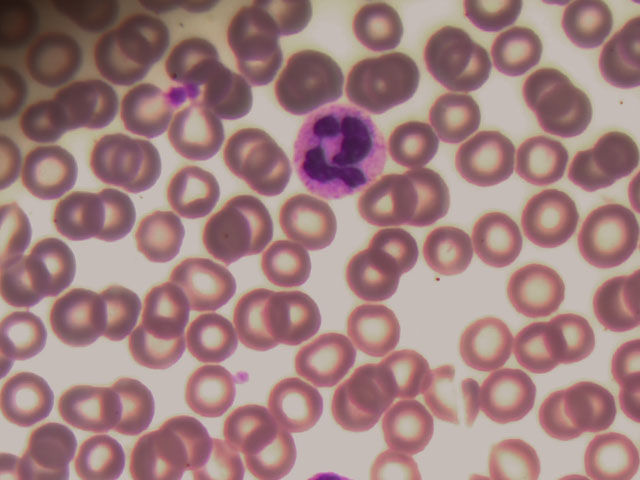Platelets: (168, 80, 198, 106), (230, 366, 255, 385)
RBC: (491, 22, 544, 77), (520, 64, 573, 119), (544, 89, 597, 144), (516, 130, 569, 185), (459, 131, 512, 186), (430, 91, 483, 146), (388, 113, 441, 168), (399, 168, 452, 223), (357, 171, 410, 226), (370, 219, 423, 274), (344, 252, 397, 307), (417, 225, 470, 280), (470, 214, 523, 269), (522, 192, 575, 247), (580, 209, 633, 264), (578, 136, 631, 191), (428, 30, 481, 85), (353, 1, 406, 56), (370, 53, 423, 108), (339, 51, 392, 106), (288, 50, 341, 105), (233, 39, 286, 94), (229, 9, 282, 64), (205, 62, 258, 117), (171, 30, 224, 85), (124, 6, 177, 61), (99, 30, 152, 85), (27, 29, 80, 84), (67, 69, 120, 124), (12, 93, 65, 148), (26, 144, 79, 199), (48, 187, 101, 242), (89, 190, 142, 245), (133, 210, 186, 265), (166, 167, 219, 222), (112, 143, 165, 198), (86, 124, 139, 179), (169, 108, 222, 163), (120, 86, 173, 141), (217, 126, 270, 181), (250, 155, 303, 210), (286, 211, 339, 266), (231, 196, 284, 251), (206, 211, 259, 266), (180, 257, 233, 312), (140, 285, 193, 340), (129, 322, 182, 377), (97, 285, 150, 340), (50, 288, 103, 343), (37, 243, 90, 298), (1, 255, 54, 310), (3, 367, 56, 422), (64, 377, 117, 432), (109, 373, 162, 428), (130, 425, 183, 480), (174, 408, 227, 463), (178, 361, 231, 416), (187, 314, 240, 369), (238, 289, 291, 344), (277, 289, 330, 344), (265, 240, 318, 295), (299, 333, 352, 388), (272, 378, 325, 433), (230, 395, 283, 450), (246, 425, 299, 480), (334, 383, 387, 438), (353, 353, 406, 408), (378, 345, 431, 400), (349, 305, 402, 360), (423, 368, 476, 423), (381, 403, 434, 458), (488, 425, 541, 480), (482, 375, 535, 430), (458, 321, 511, 376), (497, 323, 550, 378), (547, 317, 600, 372), (509, 265, 562, 320), (587, 276, 640, 331), (573, 381, 626, 436), (536, 391, 589, 446), (587, 425, 640, 480), (24, 424, 77, 479), (74, 425, 127, 480), (560, 1, 613, 55), (1, 310, 53, 365)
WBC: (289, 101, 382, 196)
